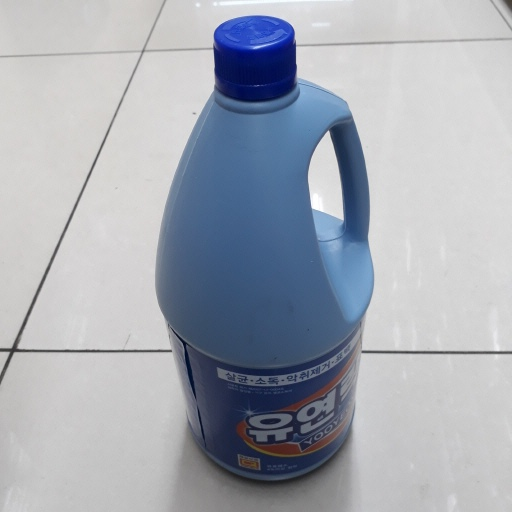Plastic_1: (159, 12, 377, 485)
